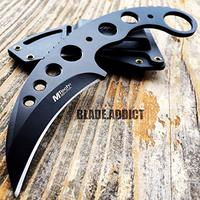knife: (5, 6, 190, 197)
